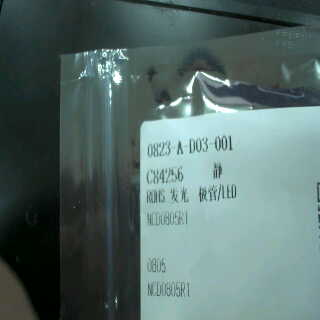LED: (168, 180, 239, 207)
